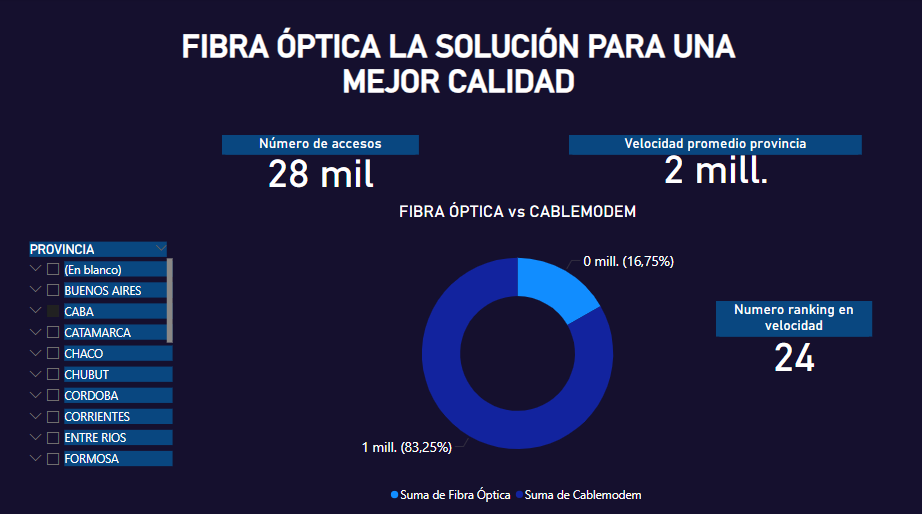

Layout of this report page (visuals, bound fields, positions):
{"tool":"powerbi","page":{"name":"Calidad","canvas":[1280,720],"ordinal":1},"visuals":[{"type":"textbox","box":[190.1,36,898.6,118.1],"z":0},{"type":"textbox","box":[670.2,320.8,162.9,75.6],"z":1000},{"type":"donutChart","title":"FIBRA ÓPTICA vs CABLEMODEM","fields":{"Y":["Sum(Hoja1 (3).Fibra Óptica)","Sum(Hoja1 (3).Cablemodem)"]},"box":[449.3,280.8,544.3,423.4],"z":2000},{"type":"card","title":"Número de accesos","fields":{"Values":["Sum(Hoja1 (3).Accesos)"]},"box":[313.9,188.6,270.7,89.3],"z":3000},{"type":"card","title":"Velocidad promedio provincia","fields":{"Values":["Sum(Hoja1 (3).Velocidad (Mbps))"]},"box":[792,188.6,403.2,79.2],"z":4000},{"type":"slicer","fields":{"Values":["Hoja1 (3).Provincia","Cablemodem.Provincia"]},"box":[36,329.8,214.6,324],"z":5000},{"type":"card","title":"Numero ranking en velocidad","fields":{"Values":["Sum(Hoja1 (3).Ranking)"]},"box":[993.6,417.6,214.6,116.6],"z":6000}]}

Visuals, with their boxes in screenshot pixels (x1, y1, x2, y2), scaled from the page's 1280x720 canvas onto the 922x514 screenshot:
textbox: box=[137, 26, 784, 110]
textbox: box=[483, 229, 600, 283]
"FIBRA ÓPTICA vs CABLEMODEM" donutChart: box=[324, 200, 716, 503]
"Número de accesos" card: box=[226, 135, 421, 198]
"Velocidad promedio provincia" card: box=[570, 135, 861, 191]
slicer - Hoja1 (3).Provincia x Cablemodem.Provincia: box=[26, 235, 181, 467]
"Numero ranking en velocidad" card: box=[716, 298, 870, 381]
